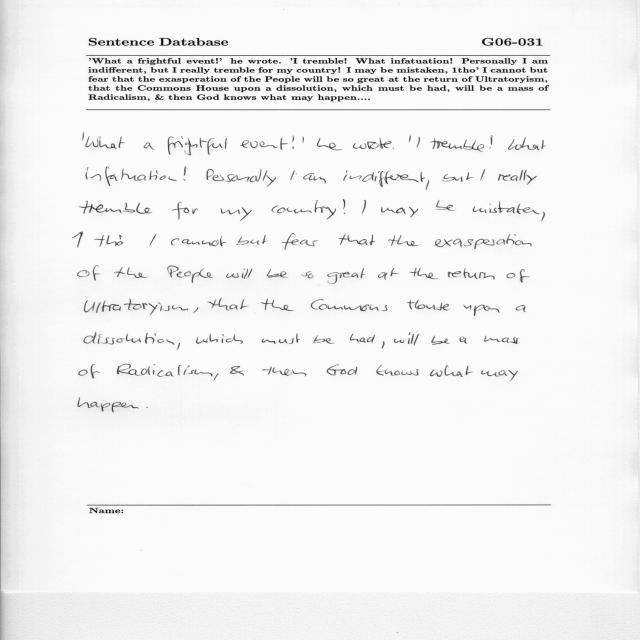word: (86, 167, 177, 186), (84, 299, 188, 315), (435, 234, 532, 249), (72, 232, 156, 248), (272, 200, 336, 220), (207, 169, 277, 187), (117, 364, 213, 377), (343, 171, 419, 187), (84, 332, 174, 345), (168, 137, 227, 156), (80, 201, 152, 214), (311, 299, 387, 311), (473, 202, 540, 215), (168, 266, 214, 283), (431, 138, 484, 152), (281, 233, 318, 251), (327, 268, 365, 284), (498, 170, 537, 185), (240, 138, 288, 150), (85, 136, 125, 149), (208, 298, 248, 311), (448, 269, 495, 280), (196, 333, 243, 344), (430, 365, 473, 377), (508, 137, 546, 150), (182, 236, 226, 247), (376, 365, 419, 376), (172, 202, 198, 220), (78, 398, 110, 412), (262, 367, 306, 377), (353, 138, 392, 149), (261, 298, 294, 311), (408, 300, 450, 310), (262, 333, 300, 344), (220, 208, 252, 221), (381, 207, 418, 218), (481, 370, 518, 381), (339, 234, 375, 245), (464, 305, 500, 316), (114, 267, 148, 278), (111, 402, 148, 412), (78, 266, 101, 281), (388, 235, 419, 246), (327, 365, 357, 376), (394, 333, 419, 346), (442, 172, 474, 182), (236, 235, 267, 245), (410, 268, 438, 279), (317, 138, 342, 150), (507, 269, 530, 282), (226, 268, 253, 279), (79, 364, 100, 378), (484, 336, 518, 344), (303, 173, 326, 184), (378, 268, 399, 279), (350, 334, 375, 343), (436, 200, 456, 211), (267, 268, 288, 278), (431, 336, 450, 345), (313, 336, 334, 344), (421, 172, 429, 190), (230, 366, 244, 375), (301, 272, 314, 279), (144, 143, 155, 150), (516, 305, 526, 312), (291, 170, 297, 180), (362, 200, 366, 214), (171, 239, 179, 246), (460, 337, 468, 344), (481, 169, 485, 181), (214, 373, 219, 381), (490, 135, 493, 148), (541, 212, 545, 221), (194, 307, 199, 314), (417, 137, 420, 148), (184, 166, 186, 181), (343, 199, 345, 214), (292, 135, 294, 149), (382, 341, 385, 349), (177, 343, 180, 350), (302, 136, 304, 143), (409, 136, 411, 142), (83, 133, 84, 140), (393, 148, 394, 149)
